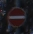No entry: (5, 5, 28, 29)
